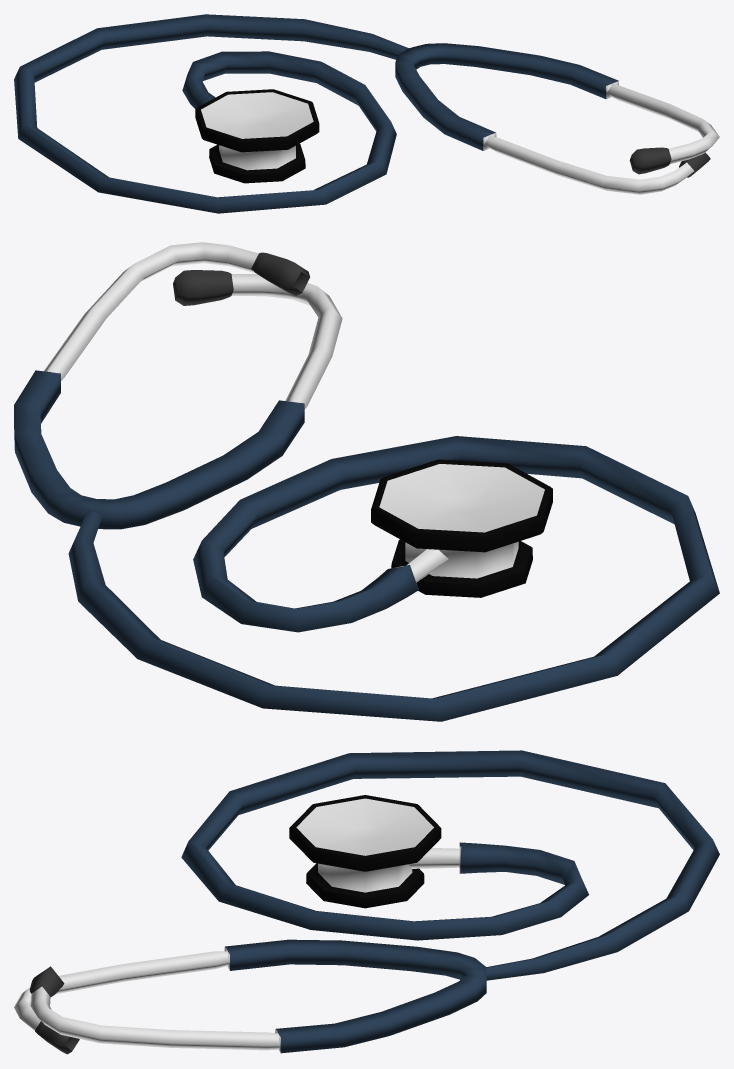
The model's file is Estestoscopio_SM_Tx_01 (1).fbx.
3 renders of one model, top to bottom at view 1: azimuth 30°, elevation 25°; view 2: azimuth 150°, elevation 25°; view 3: azimuth 270°, elevation 25°, orthographic. The views are drawn at different scales.
Visible parts, largest first — view 1: estetoscopio_medico_geo; view 2: estetoscopio_medico_geo; view 3: estetoscopio_medico_geo.
Part boxes in pixels (x1=…): estetoscopio_medico_geo: x1=14, y1=14, x2=719, y2=213; estetoscopio_medico_geo: x1=14, y1=242, x2=719, y2=721; estetoscopio_medico_geo: x1=14, y1=750, x2=719, y2=1054.
Size of the model in its own units: 25.27 by 2.38 by 25.35.
Materials: 1 (1 with a texture image).
